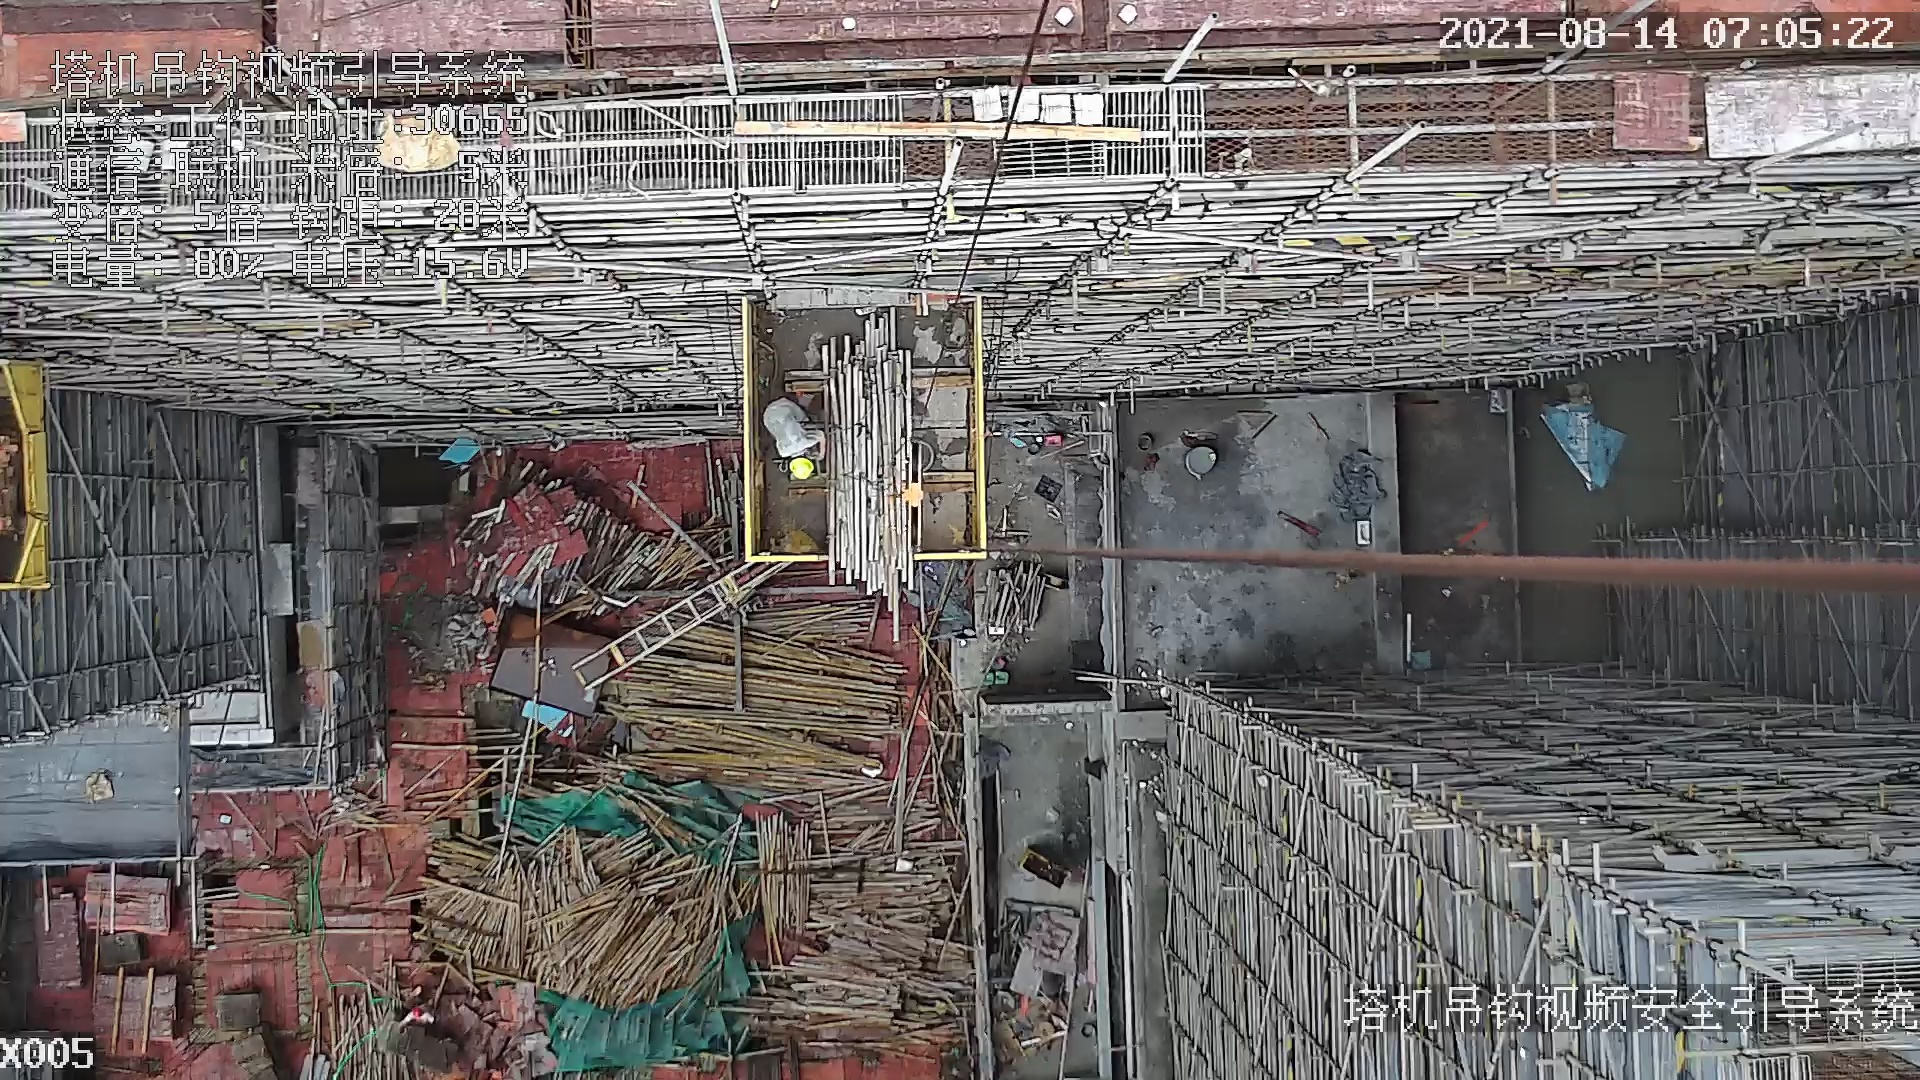helmet: (788, 455, 815, 482)
hook: (890, 440, 938, 559)
person: (767, 395, 833, 487)
